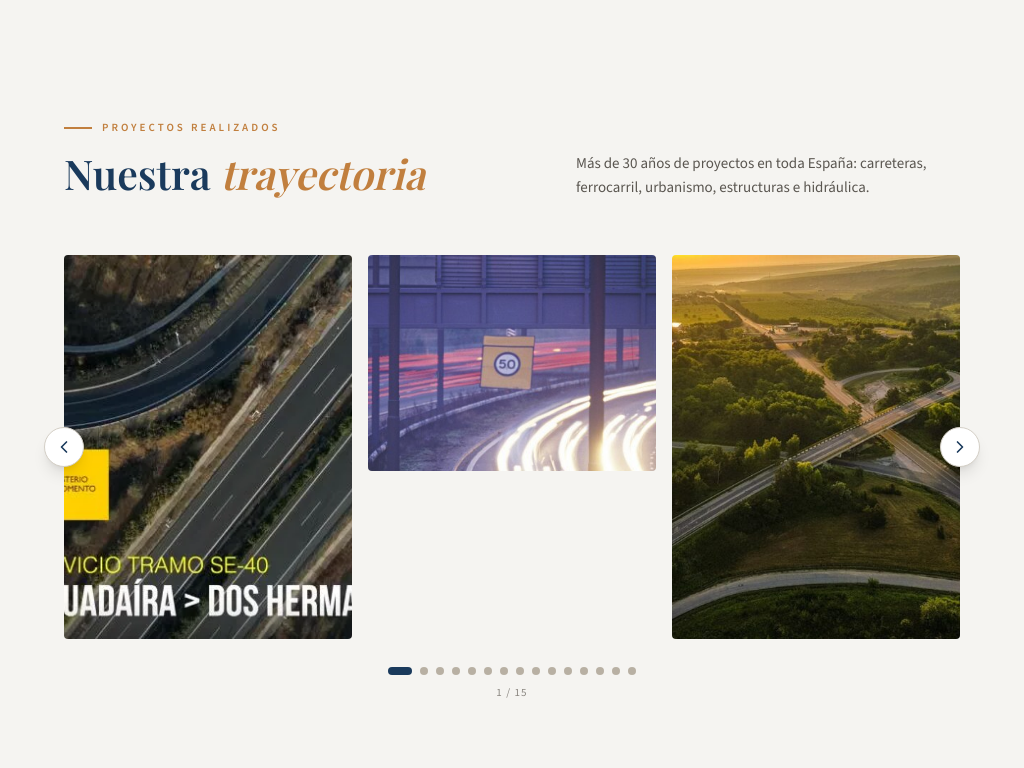
it: Gallery › clicking "Anterior" from index 0 wraps to last photo
The width and height of the screenshot is (1024, 768).
Click the button named "Anterior" at x=64, y=447, box [44, 427, 84, 467]
Wait 300 ms
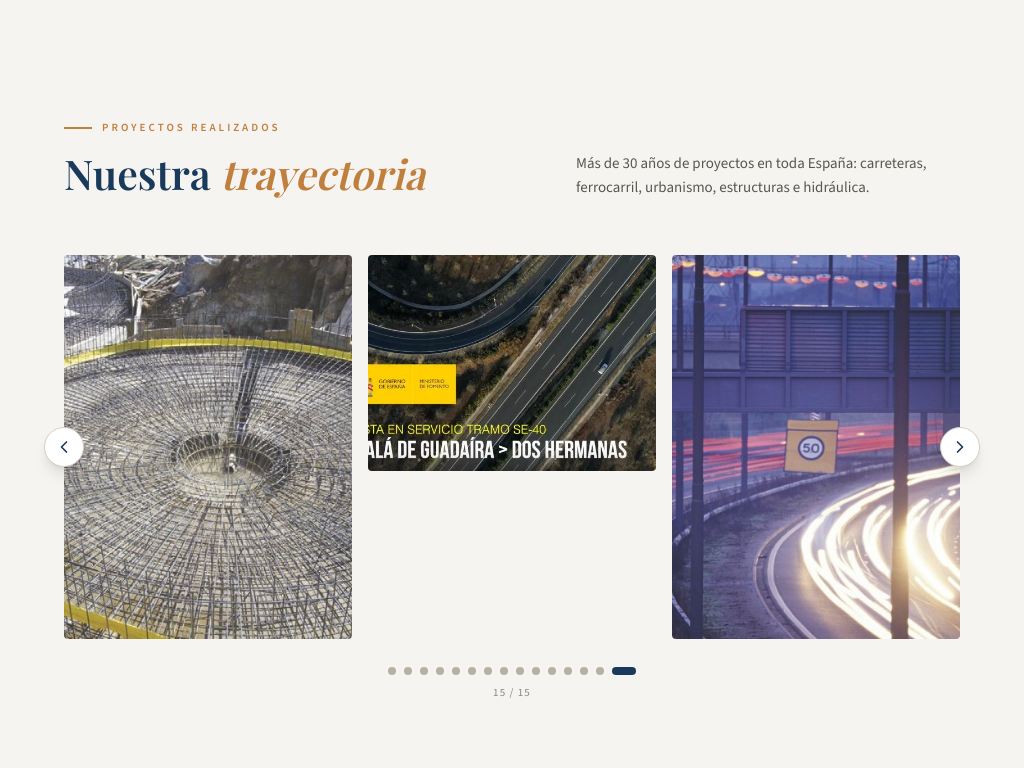
Expected: the text "15 / 15" is shown, [493, 685, 531, 700]
